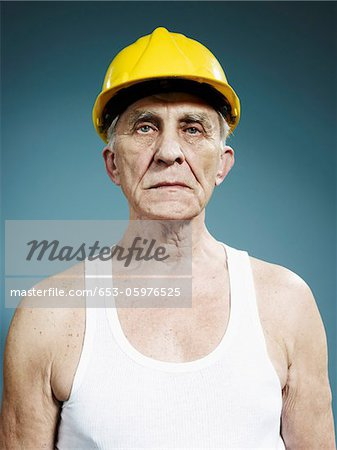Person_wearing_helmet: (92, 21, 242, 158)
